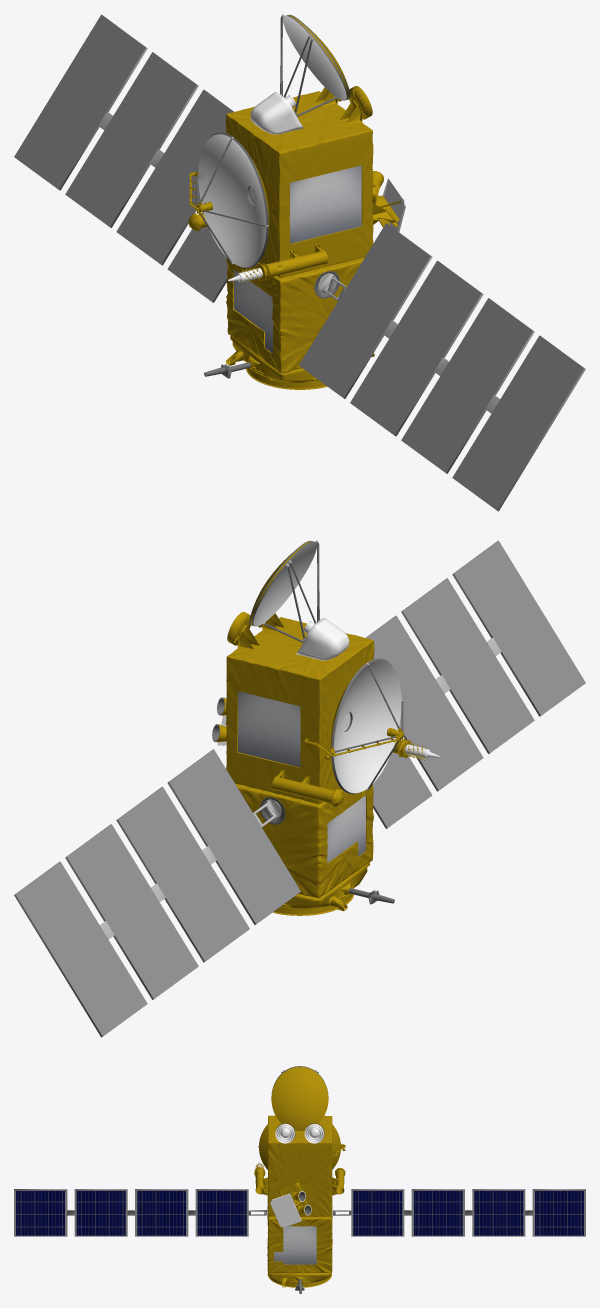
Rendered from Jason.glb.
The picture shows the model from 3 angles, top to bottom: view 1: azimuth 30°, elevation 25°; view 2: azimuth 150°, elevation 25°; view 3: azimuth 270°, elevation 25°; orthographic projection. The views are drawn at different scales.
Parts seen in each view (by area): view 1: Jason-1_vFINAL [Dark Grey], Jason-1_vFINAL [Main Body_Foil], Jason-1_vFINAL [White Surfaces], Jason-1_vFINAL [Foil Color Surfaces], Jason-1_vFINAL [Steel Panels], Jason-1_vFINAL [Black Surfaces], Jason-1_vFINAL [White Surfaces_Smooth], Jason-1_vFINAL [Grey Surfaces]; view 2: Jason-1_vFINAL [Dark Grey], Jason-1_vFINAL [Main Body_Foil], Jason-1_vFINAL [White Surfaces], Jason-1_vFINAL [Foil Color Surfaces], Jason-1_vFINAL [Steel Panels], Jason-1_vFINAL [Black Surfaces], Jason-1_vFINAL [White Surfaces_Smooth], Jason-1_vFINAL [Grey Surfaces]; view 3: Jason-1_vFINAL [Solar Panels], Jason-1_vFINAL [Main Body_Foil], Jason-1_vFINAL [Foil Color Surfaces], Jason-1_vFINAL [Light Grey Surfaces], Jason-1_vFINAL [White Surfaces], Jason-1_vFINAL [Steel Panels], Jason-1_vFINAL [Dark Grey], Jason-1_vFINAL [Grey Surfaces], Jason-1_vFINAL [Black Surfaces].
Part boxes in pixels (box(x1,y1,x2,y2)): Jason-1_vFINAL [Dark Grey]: box(14, 14, 585, 511); Jason-1_vFINAL [Main Body_Foil]: box(225, 91, 373, 373); Jason-1_vFINAL [White Surfaces]: box(198, 15, 405, 282); Jason-1_vFINAL [Foil Color Surfaces]: box(188, 15, 401, 389); Jason-1_vFINAL [Steel Panels]: box(234, 165, 361, 353); Jason-1_vFINAL [Black Surfaces]: box(196, 14, 350, 378); Jason-1_vFINAL [White Surfaces_Smooth]: box(250, 92, 303, 134); Jason-1_vFINAL [Grey Surfaces]: box(98, 14, 500, 413); Jason-1_vFINAL [Dark Grey]: box(14, 540, 585, 1037); Jason-1_vFINAL [Main Body_Foil]: box(226, 617, 374, 898); Jason-1_vFINAL [White Surfaces]: box(212, 541, 439, 793); Jason-1_vFINAL [Foil Color Surfaces]: box(215, 541, 426, 915); Jason-1_vFINAL [Steel Panels]: box(238, 691, 365, 862); Jason-1_vFINAL [Black Surfaces]: box(212, 540, 403, 904); Jason-1_vFINAL [White Surfaces_Smooth]: box(296, 618, 349, 660); Jason-1_vFINAL [Grey Surfaces]: box(99, 540, 501, 939); Jason-1_vFINAL [Solar Panels]: box(16, 1191, 583, 1235); Jason-1_vFINAL [Main Body_Foil]: box(267, 1115, 332, 1273); Jason-1_vFINAL [Foil Color Surfaces]: box(254, 1066, 345, 1287); Jason-1_vFINAL [Light Grey Surfaces]: box(14, 1190, 585, 1236); Jason-1_vFINAL [White Surfaces]: box(257, 1123, 324, 1227); Jason-1_vFINAL [Steel Panels]: box(274, 1226, 316, 1264); Jason-1_vFINAL [Dark Grey]: box(14, 1189, 585, 1236); Jason-1_vFINAL [Grey Surfaces]: box(67, 1070, 532, 1218); Jason-1_vFINAL [Black Surfaces]: box(267, 1066, 332, 1293).
Size of the model in its own units: 152 by 253 by 634.
38 materials, 10 textured.
